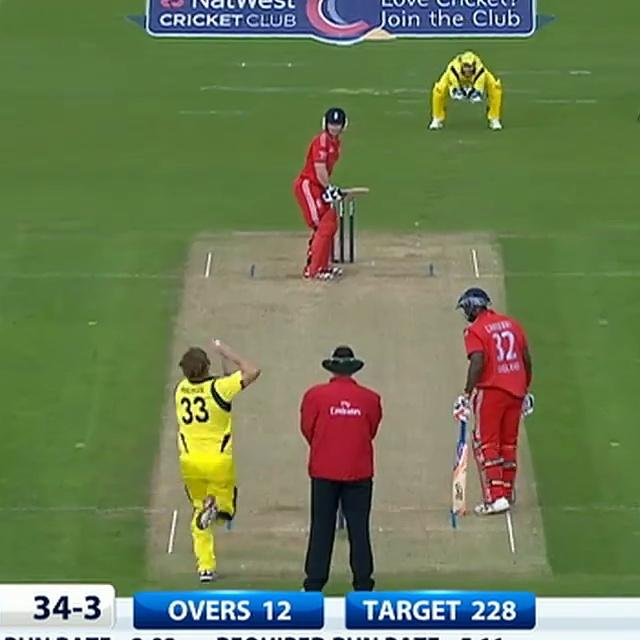umpire: (286, 336, 394, 594)
